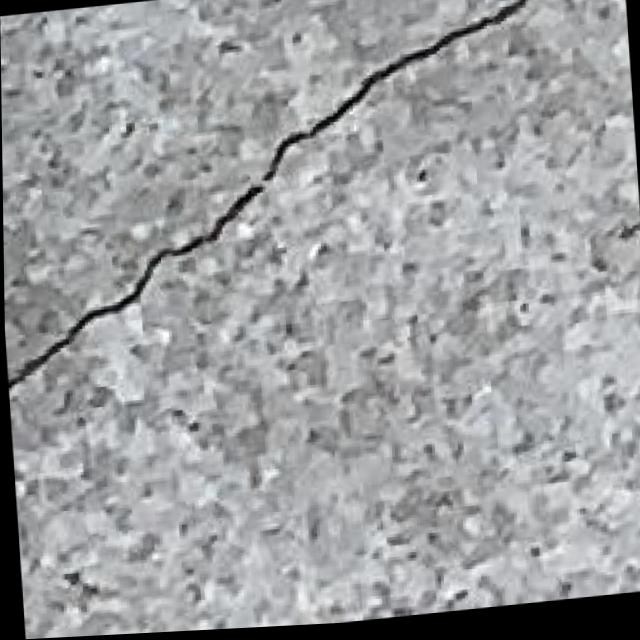Crack: (0, 0, 578, 398)
